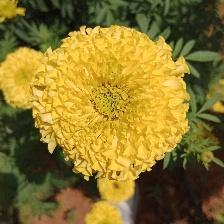marigold: (29, 24, 193, 186)
